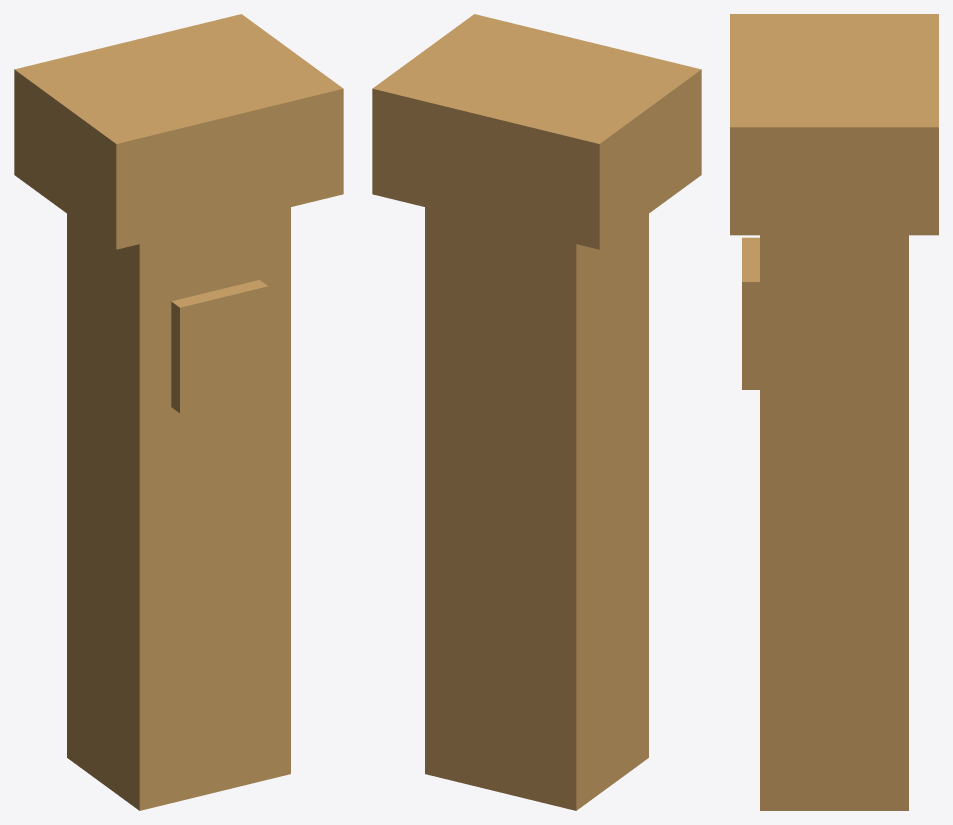
Rendered from SM_MarshwardWaymarker_Greybox.fbx.
The picture shows the model from 3 angles, left to right: view 1: azimuth 30°, elevation 25°; view 2: azimuth 150°, elevation 25°; view 3: azimuth 270°, elevation 25°; orthographic projection. The views are drawn at different scales.
Parts seen in each view (by area): view 1: SM_MarshwardWaymarker_Greybox; view 2: SM_MarshwardWaymarker_Greybox; view 3: SM_MarshwardWaymarker_Greybox.
Boxes of the visible parts, box(x1,y1,x2,y2) form: SM_MarshwardWaymarker_Greybox: box(14, 14, 343, 810); SM_MarshwardWaymarker_Greybox: box(372, 14, 701, 810); SM_MarshwardWaymarker_Greybox: box(730, 14, 938, 810).
Size of what is drawn, in the model's own units: 180 by 140 by 520.
